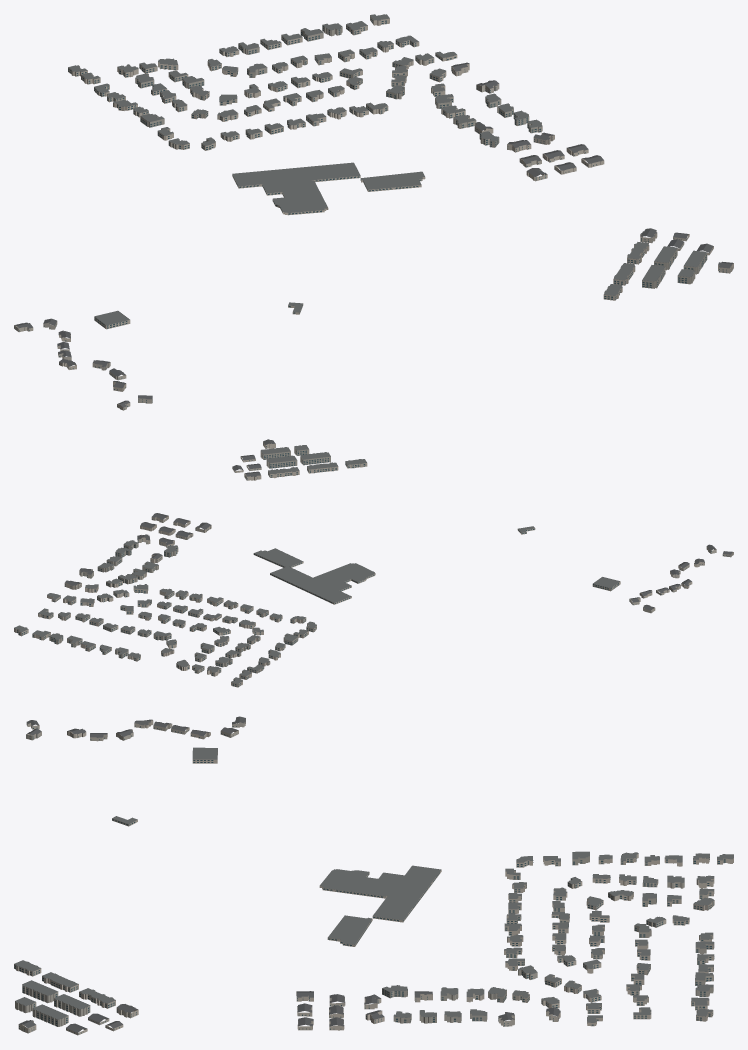
3 views of the same model, one above another, from view 1: azimuth 30°, elevation 25°; view 2: azimuth 150°, elevation 25°; view 3: azimuth 270°, elevation 25° (orthographic). The views are drawn at different scales.
Visible parts, largest first — view 1: Buildings (-4, 9) Roof membrane, Buildings (-4, 9) Masonry brick, Buildings (-4, 9) Architectural tinted glass, Buildings (-4, 9) Architectural concrete, Buildings (-4, 9) Roof shingles, Buildings (-4, 9) House siding, Buildings (-4, 9) Metal coping; view 2: Buildings (-4, 9) Roof membrane, Buildings (-4, 9) Masonry brick, Buildings (-4, 9) Architectural tinted glass, Buildings (-4, 9) Architectural concrete, Buildings (-4, 9) Roof shingles, Buildings (-4, 9) House siding; view 3: Buildings (-4, 9) Roof membrane, Buildings (-4, 9) Masonry brick, Buildings (-4, 9) Architectural concrete, Buildings (-4, 9) Architectural tinted glass, Buildings (-4, 9) Roof shingles, Buildings (-4, 9) Metal coping, Buildings (-4, 9) House siding.
Part boxes in pixels (x1,y1,x2,y2): Buildings (-4, 9) Roof membrane: (68, 14, 706, 325); Buildings (-4, 9) Masonry brick: (58, 15, 733, 391); Buildings (-4, 9) Architectural tinted glass: (14, 17, 732, 409); Buildings (-4, 9) Architectural concrete: (135, 25, 707, 288); Buildings (-4, 9) Roof shingles: (14, 62, 733, 407); Buildings (-4, 9) House siding: (14, 81, 684, 410); Buildings (-4, 9) Metal coping: (68, 14, 705, 322); Buildings (-4, 9) Roof membrane: (14, 445, 619, 683); Buildings (-4, 9) Masonry brick: (14, 442, 704, 687); Buildings (-4, 9) Architectural tinted glass: (17, 443, 729, 686); Buildings (-4, 9) Architectural concrete: (49, 448, 330, 667); Buildings (-4, 9) Roof shingles: (65, 439, 732, 610); Buildings (-4, 9) House siding: (79, 465, 733, 613); Buildings (-4, 9) Roof membrane: (14, 748, 733, 1022); Buildings (-4, 9) Masonry brick: (14, 720, 733, 1035); Buildings (-4, 9) Architectural concrete: (15, 856, 714, 1026); Buildings (-4, 9) Architectural tinted glass: (14, 725, 725, 1034); Buildings (-4, 9) Roof shingles: (19, 716, 560, 1032); Buildings (-4, 9) Metal coping: (15, 747, 733, 1022); Buildings (-4, 9) House siding: (26, 720, 514, 1026).
Bounding box in the file's own units: 1004 × 40.05 × 1002.
